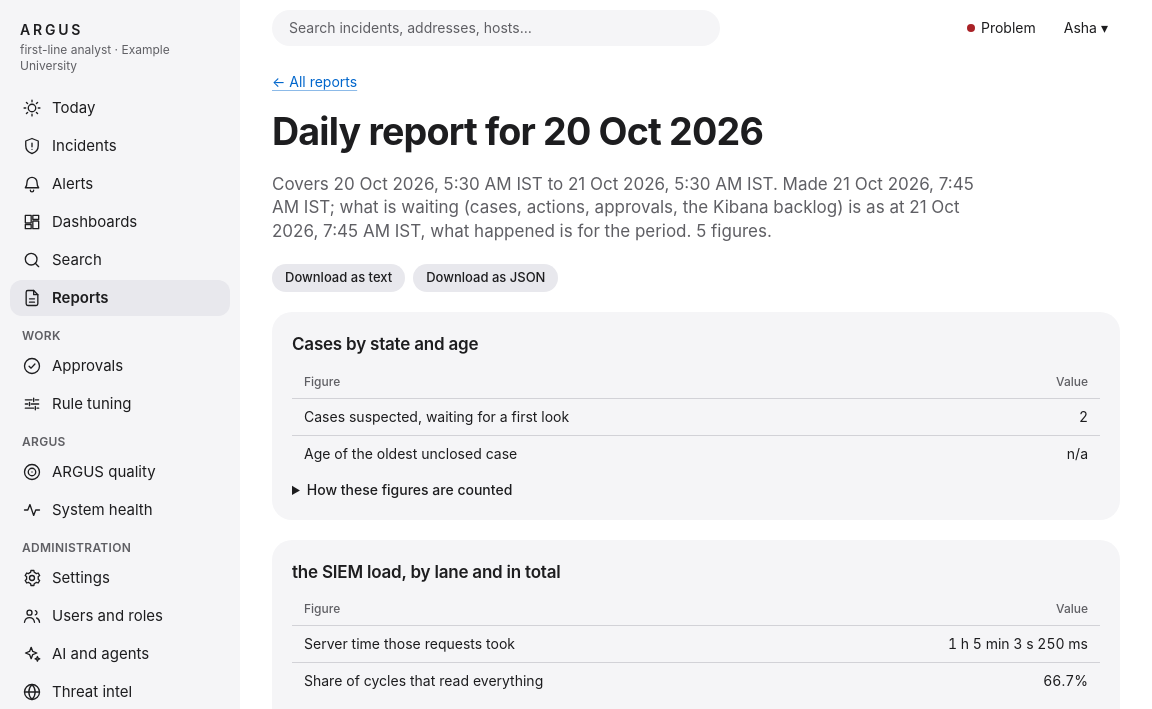
Scenario: one report › says how each figure is counted, on demand
Click the heading "How these figures are counted": (410, 489) left=307, top=480, right=512, bottom=498
(page scrolled)
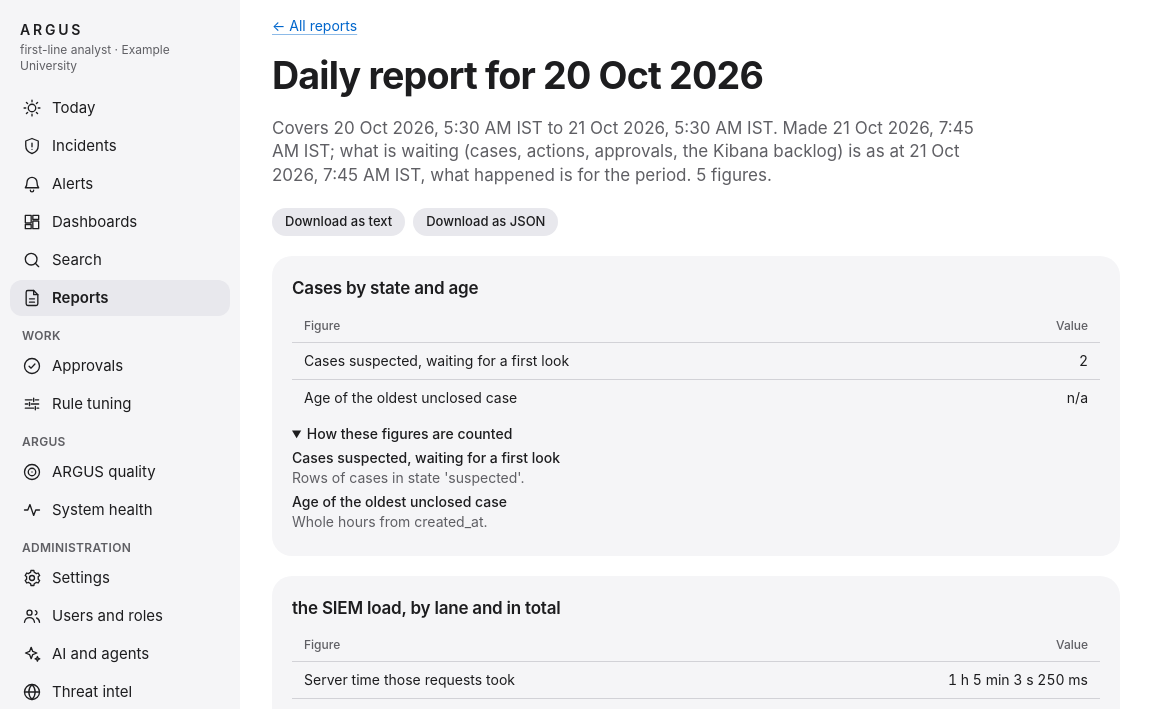
expect the text "Rows of cases in state 'suspected'." is shown: met, box left=292, top=468, right=524, bottom=486
